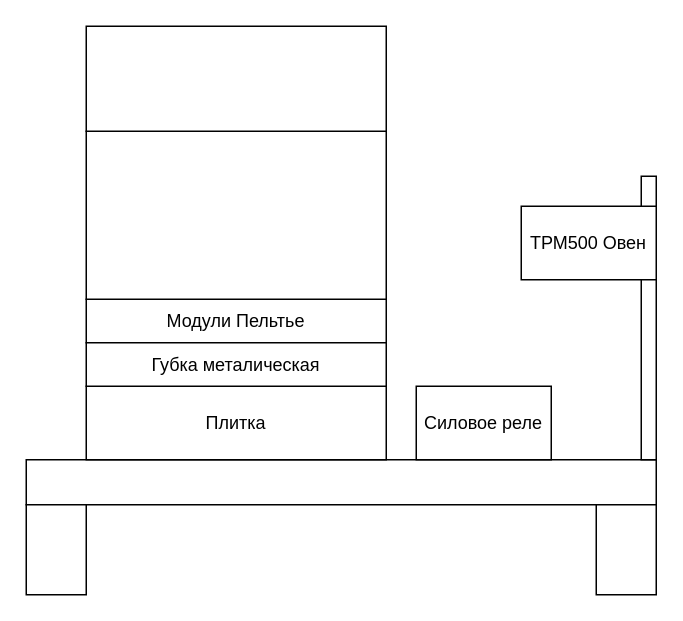
This 683x621 diagram has some shape labels left out. Each missing label, with the box of its shape:
Вентилятор: (85, 25, 386, 131)
Радиатор: (85, 130, 386, 299)
